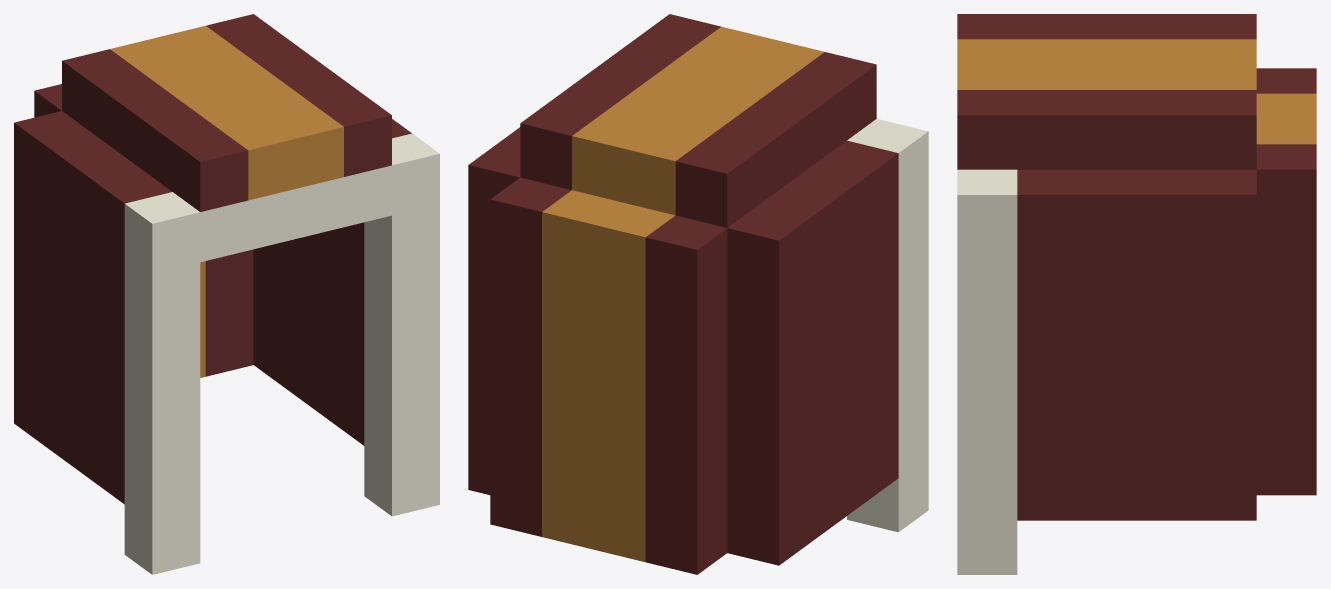
File: characters_export_red-257-helm_lgt_3a_du_color.obj
3 renders of one model, left to right at view 1: azimuth 30°, elevation 25°; view 2: azimuth 150°, elevation 25°; view 3: azimuth 270°, elevation 25°, orthographic. The views are drawn at different scales.
Parts seen in each view (by area): view 1: helm_lgt_3a_du_color; view 2: helm_lgt_3a_du_color; view 3: helm_lgt_3a_du_color.
Part boxes in pixels (left/top/right/bottom): helm_lgt_3a_du_color: left=14, top=14, right=439, bottom=574; helm_lgt_3a_du_color: left=468, top=14, right=928, bottom=574; helm_lgt_3a_du_color: left=957, top=14, right=1316, bottom=574.
Size of the model in its own units: 0.6 by 0.8 by 0.6.
Materials: 1 (1 with a texture image).
